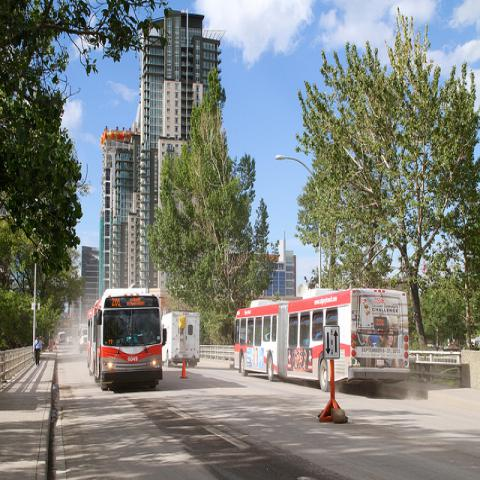bus: (232, 288, 410, 391), (87, 289, 162, 390)
truck: (161, 311, 200, 368), (79, 328, 87, 354)
